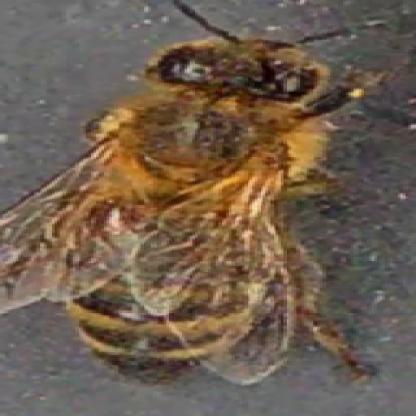bee: (55, 34, 338, 374)
